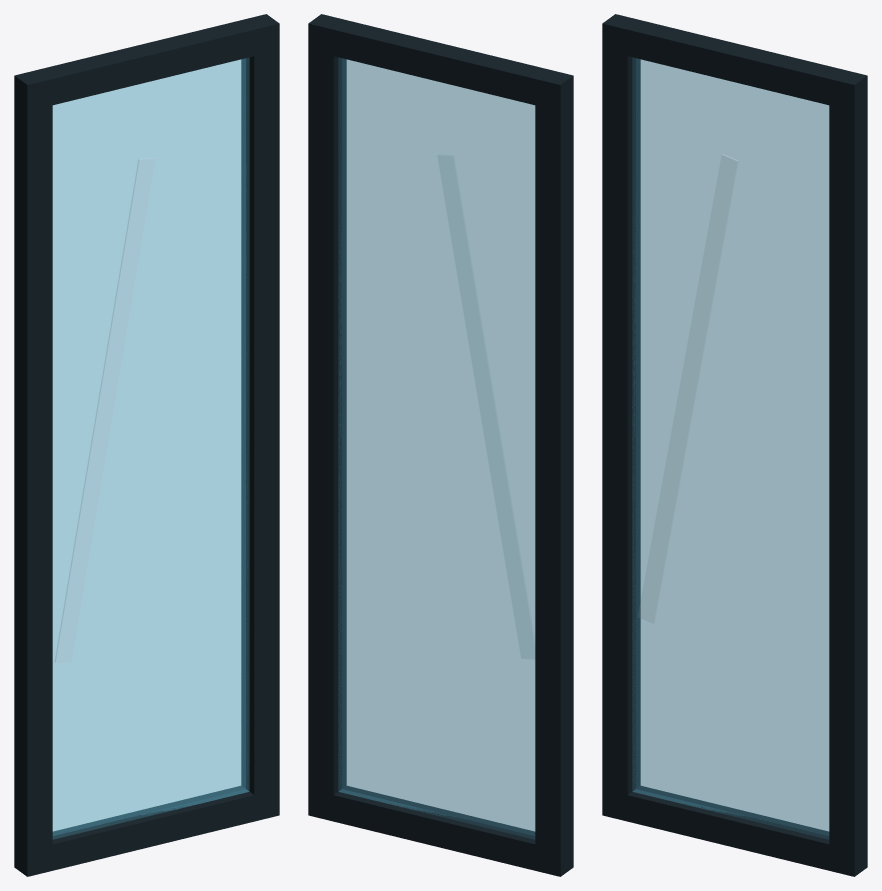
The model's file is window_1pan_2level.glb.
3 renders of one model, left to right at view 1: azimuth 30°, elevation 25°; view 2: azimuth 150°, elevation 25°; view 3: azimuth 330°, elevation 25°, orthographic.
Parts seen in each view (by area): view 1: Glass_Pane_1, Frame_Left, Frame_Right, Frame_Top, Frame_Bottom, Reflection_Stripe_1; view 2: Glass_Pane_1, Frame_Left, Frame_Right, Frame_Top, Frame_Bottom, Reflection_Stripe_1; view 3: Glass_Pane_1, Frame_Right, Frame_Left, Frame_Top, Frame_Bottom, Reflection_Stripe_1.
Part boxes in pixels (<box>): Glass_Pane_1: <box>52,58,249,839</box>; Frame_Left: <box>14,102,52,850</box>; Frame_Right: <box>241,50,279,794</box>; Frame_Top: <box>14,14,279,111</box>; Frame_Bottom: <box>14,786,279,876</box>; Reflection_Stripe_1: <box>55,158,154,662</box>; Glass_Pane_1: <box>338,58,535,839</box>; Frame_Left: <box>535,102,573,850</box>; Frame_Right: <box>308,50,346,794</box>; Frame_Top: <box>308,14,573,111</box>; Frame_Bottom: <box>308,786,573,876</box>; Reflection_Stripe_1: <box>438,156,534,658</box>; Glass_Pane_1: <box>632,58,829,839</box>; Frame_Right: <box>829,102,867,850</box>; Frame_Left: <box>602,50,640,794</box>; Frame_Top: <box>602,14,867,111</box>; Frame_Bottom: <box>602,786,867,876</box>; Reflection_Stripe_1: <box>638,154,737,623</box>.
Bounding box in the file's own units: 1 × 3 × 0.09.
